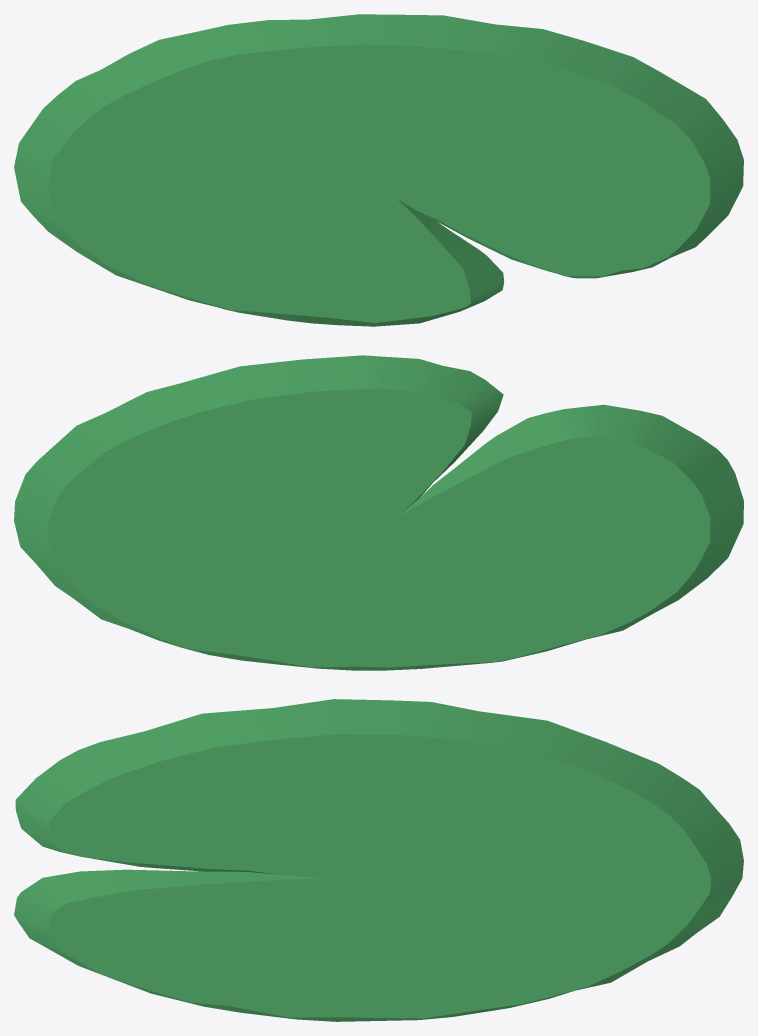
Rendered from plant_nymphaea_light_A.fbx.
3 views of the same model, one above another, from view 1: azimuth 30°, elevation 25°; view 2: azimuth 150°, elevation 25°; view 3: azimuth 270°, elevation 25° (orthographic). The views are drawn at different scales.
Parts seen in each view (by area): view 1: plant_nymphaea_light_A; view 2: plant_nymphaea_light_A; view 3: plant_nymphaea_light_A.
Part boxes in pixels (bbox=[...]): plant_nymphaea_light_A: bbox=[14, 14, 743, 326]; plant_nymphaea_light_A: bbox=[14, 355, 743, 670]; plant_nymphaea_light_A: bbox=[14, 699, 743, 1021].
Bounding box in the file's own units: 44.23 × 1.44 × 43.07.
